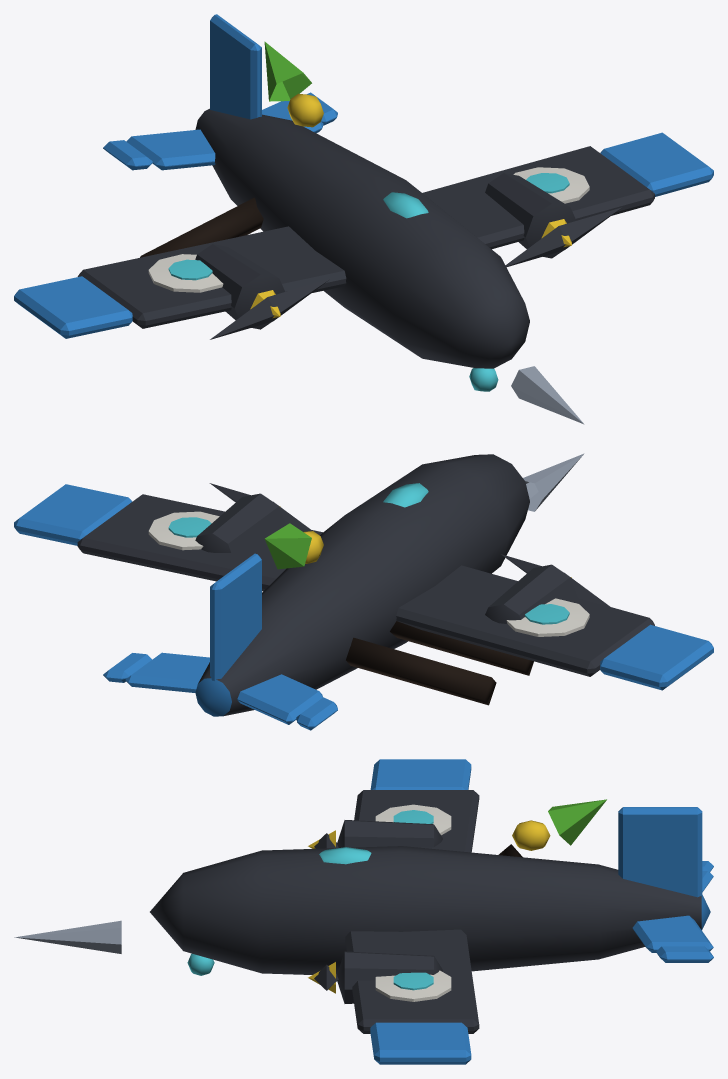
The picture shows the model from 3 angles, top to bottom: view 1: azimuth 30°, elevation 25°; view 2: azimuth 150°, elevation 25°; view 3: azimuth 270°, elevation 25°; orthographic projection. The views are drawn at different scales.
Visible parts, largest first — view 1: as_0_base, as_1_torreta; view 2: as_0_base, as_1_torreta; view 3: as_0_base, as_1_torreta.
Boxes of the visible parts, bbox=[...] form: as_0_base: bbox=[14, 14, 713, 424]; as_1_torreta: bbox=[210, 207, 621, 339]; as_0_base: bbox=[14, 453, 713, 730]; as_1_torreta: bbox=[209, 483, 610, 606]; as_0_base: bbox=[14, 759, 713, 1064]; as_1_torreta: bbox=[308, 830, 338, 993].
Size of the model in its own units: 1.49 by 0.4148 by 1.5.
